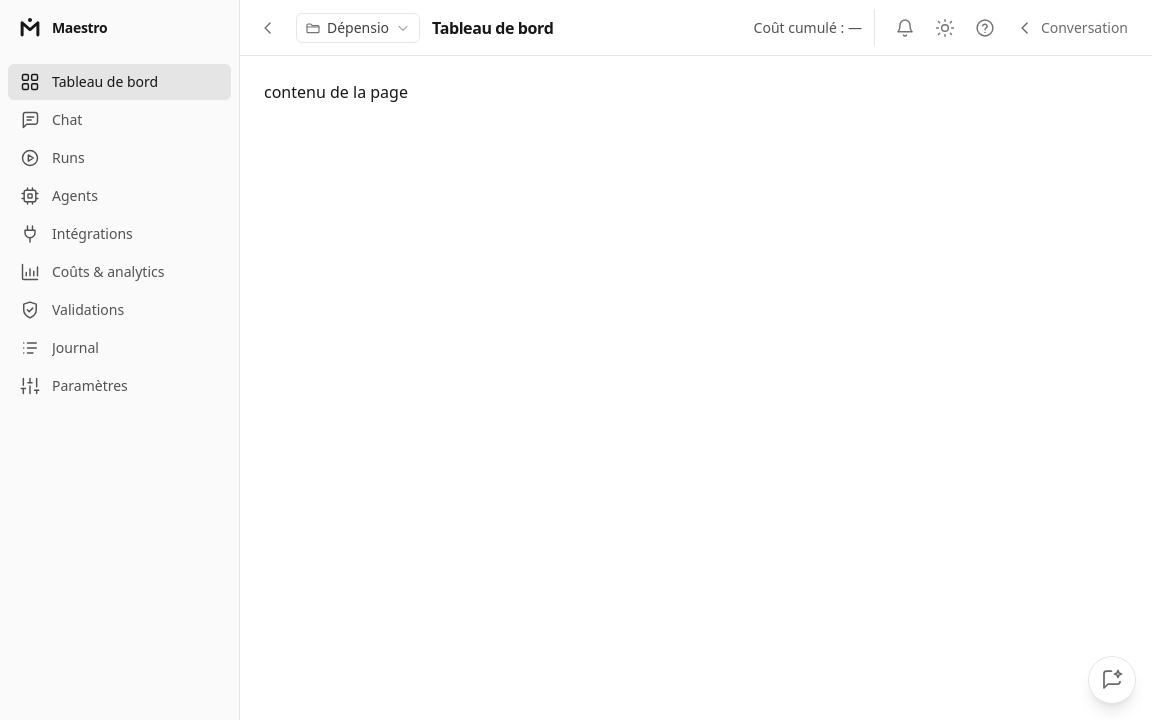
Test: le shell applicatif (Shell) › fait passer l'ouverture de la conversation par le stockage
Expected: the text "contenu de la page" is shown, [264,81,408,103]
Click the button with aria-label "Déplier la conversation".
click(1071, 28)  # box [1007,9,1136,46]
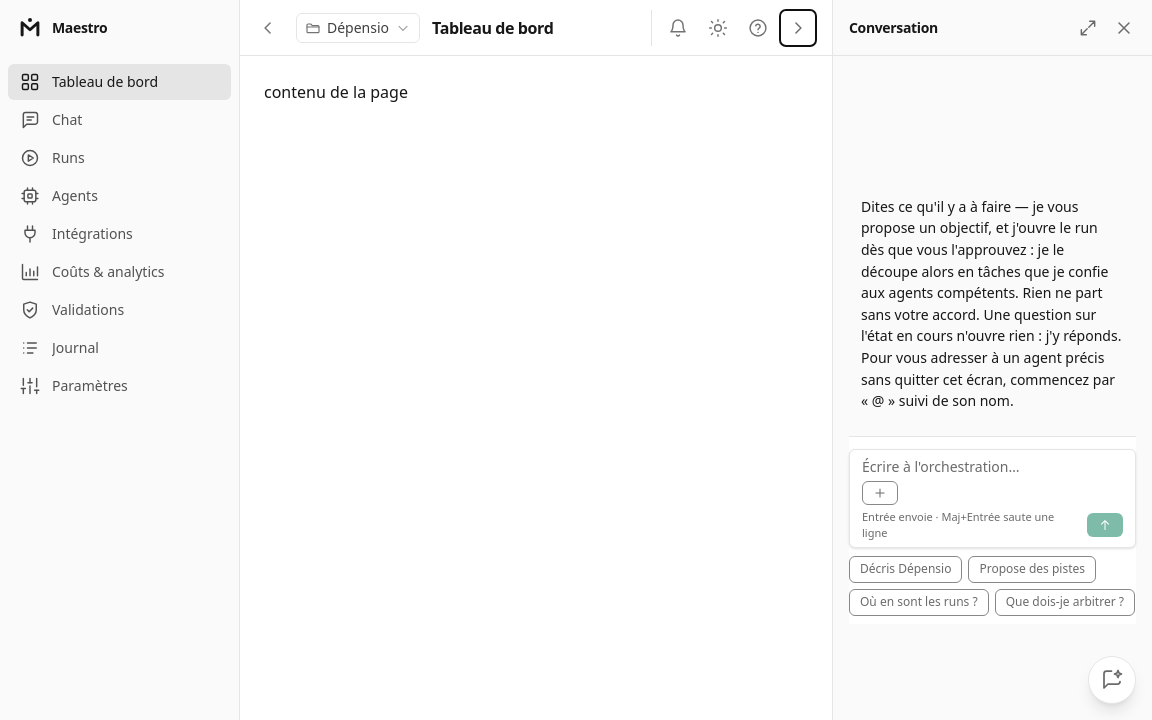
Now the element "Conversation" is shown, box [832,0,1151,719]
Now the button named "Replier la conversation" is expanded, box [780,10,816,46]
